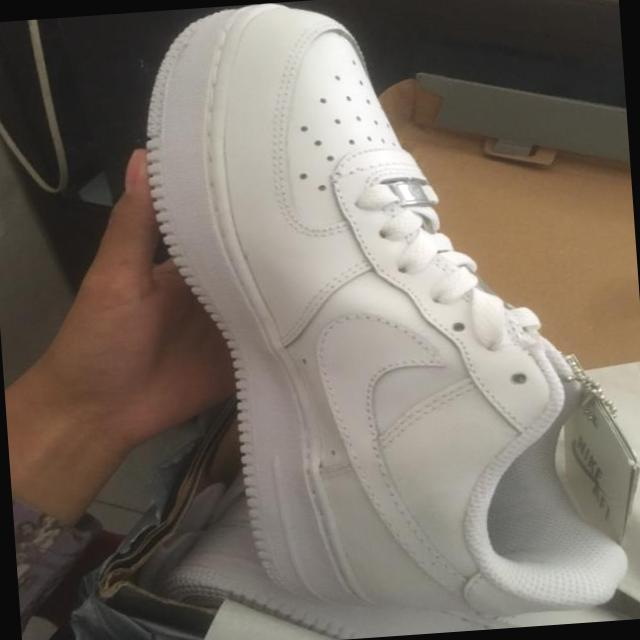nike_fake_airforce: (128, 0, 634, 640)
